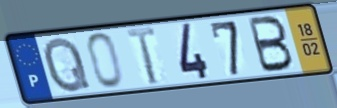0: (84, 30, 128, 92)
4: (176, 21, 210, 82)
7: (208, 19, 241, 78)
B: (246, 14, 296, 75)
Q: (42, 35, 94, 95)
T: (124, 25, 159, 88)
